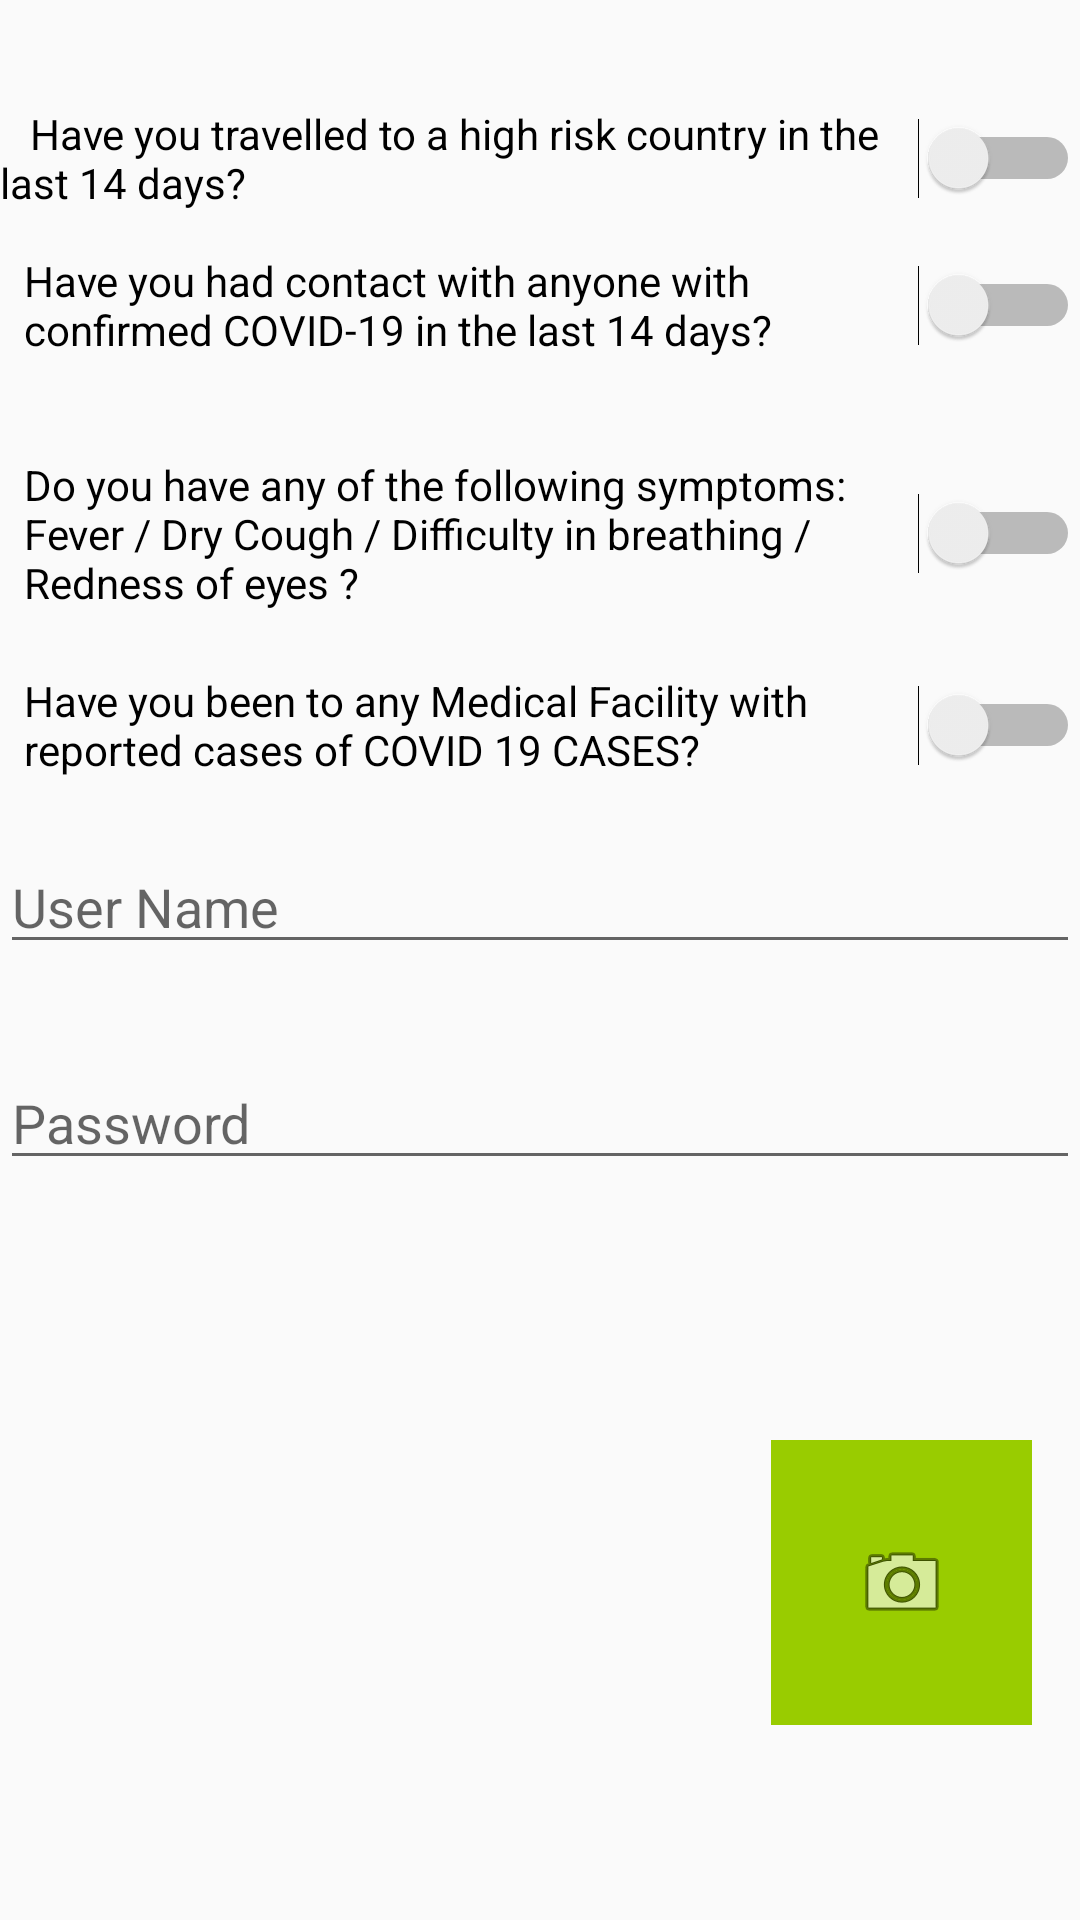

Icons on this 1080w x 1920h Android screen, each with the point to tap as point (x, y):
camera: point (901, 1582)
